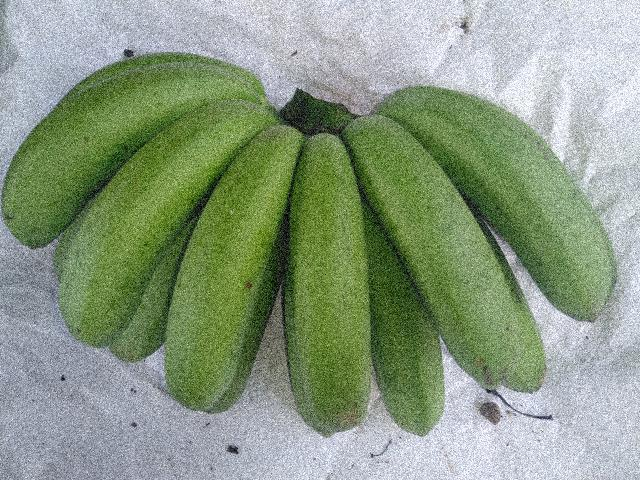unripe: (24, 95, 260, 386), (398, 69, 623, 326), (341, 96, 522, 383), (0, 37, 253, 234), (273, 118, 393, 461), (160, 153, 300, 424), (353, 254, 449, 438)
